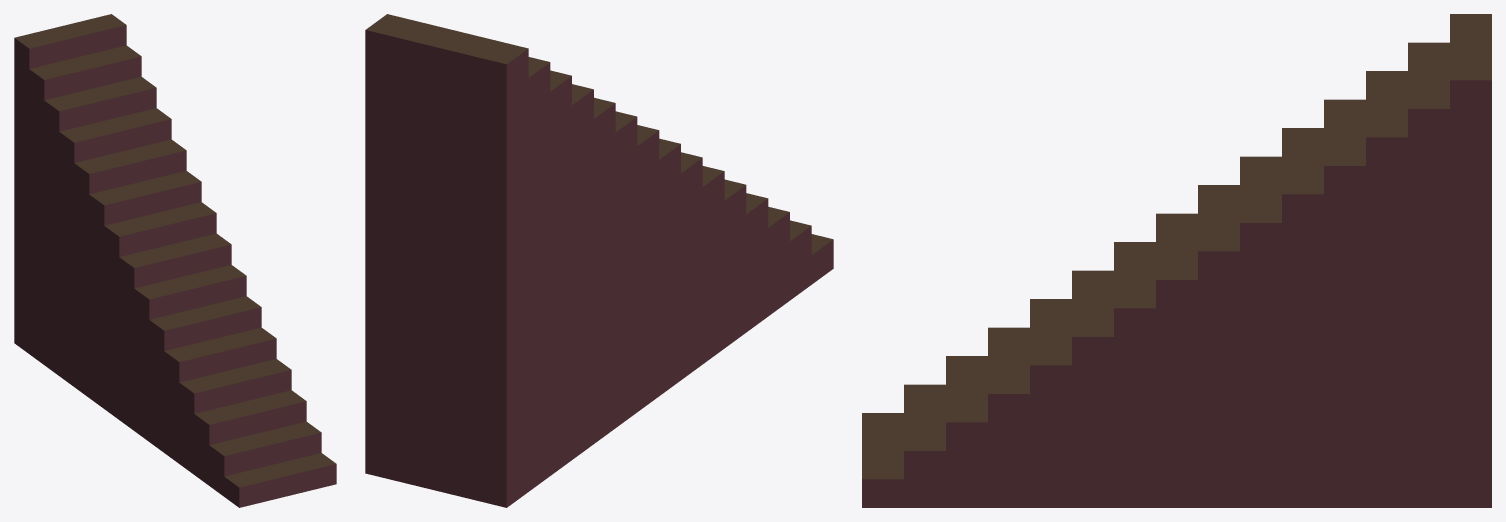
The model's file is stairs-house-4m.fbx.
3 renders of one model, left to right at view 1: azimuth 30°, elevation 25°; view 2: azimuth 150°, elevation 25°; view 3: azimuth 270°, elevation 25°, orthographic. The views are drawn at different scales.
Parts seen in each view (by area): view 1: stairs-house-4m; view 2: stairs-house-4m; view 3: stairs-house-4m.
Boxes of the visible parts, x1,y1,x2,y2 form: stairs-house-4m: (14, 14, 336, 507); stairs-house-4m: (365, 14, 833, 507); stairs-house-4m: (862, 14, 1491, 507).
Size of the model in its own units: 1 by 3 by 4.01.
